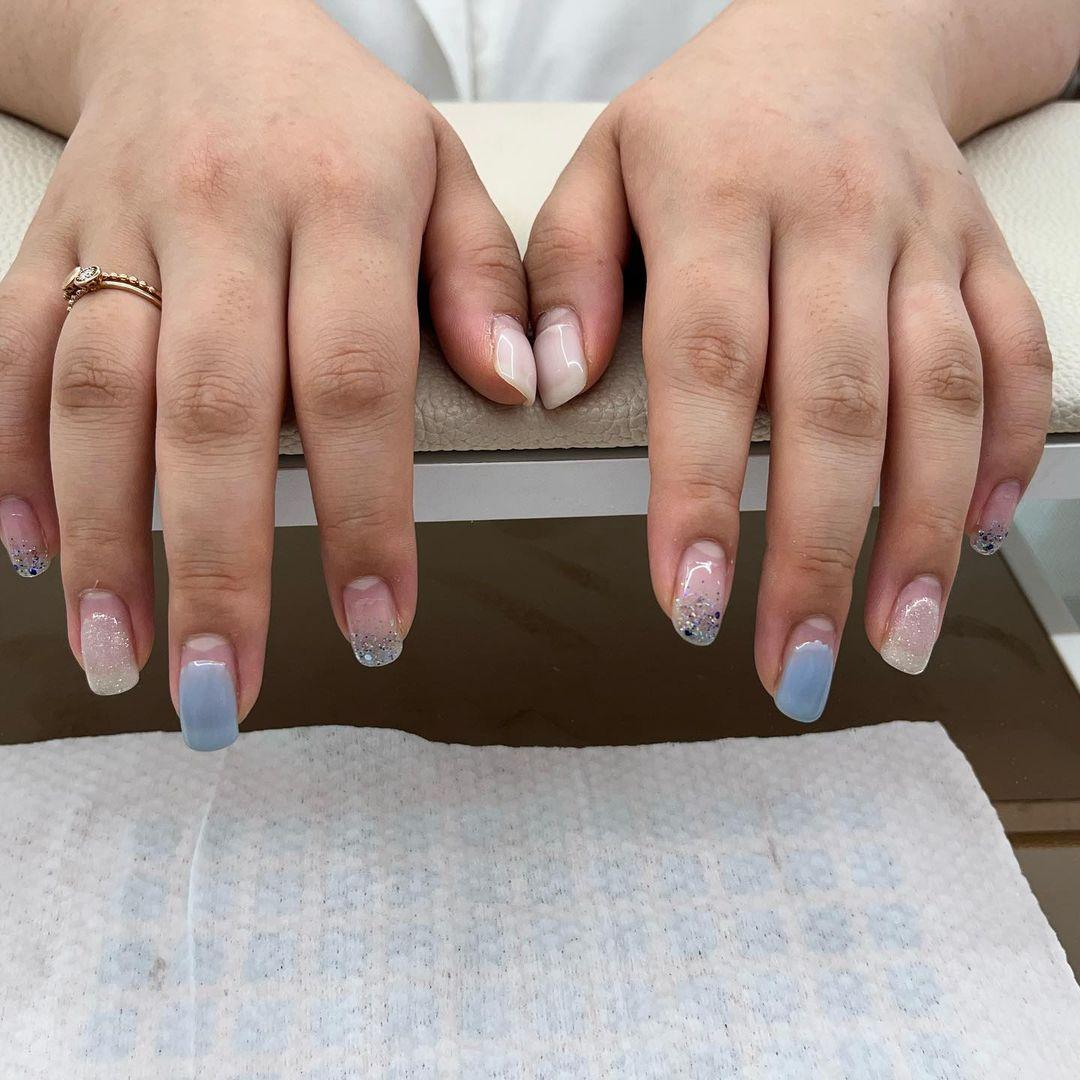nail: (176, 631, 239, 751), (772, 613, 837, 723), (76, 587, 140, 696), (878, 572, 942, 675), (669, 537, 729, 646), (341, 573, 403, 667), (533, 305, 589, 409), (488, 312, 536, 404), (0, 493, 51, 578), (969, 477, 1021, 556)
